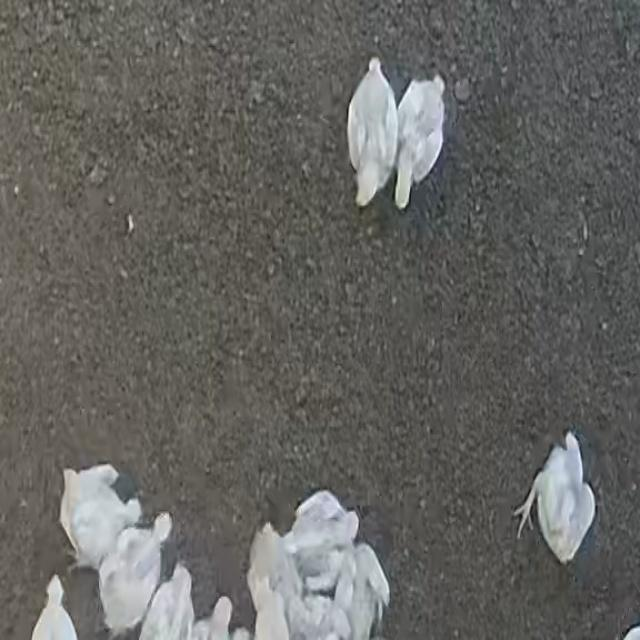chicken: (516, 427, 598, 566), (98, 512, 177, 634), (53, 458, 139, 568), (342, 50, 396, 214), (397, 64, 451, 218)
